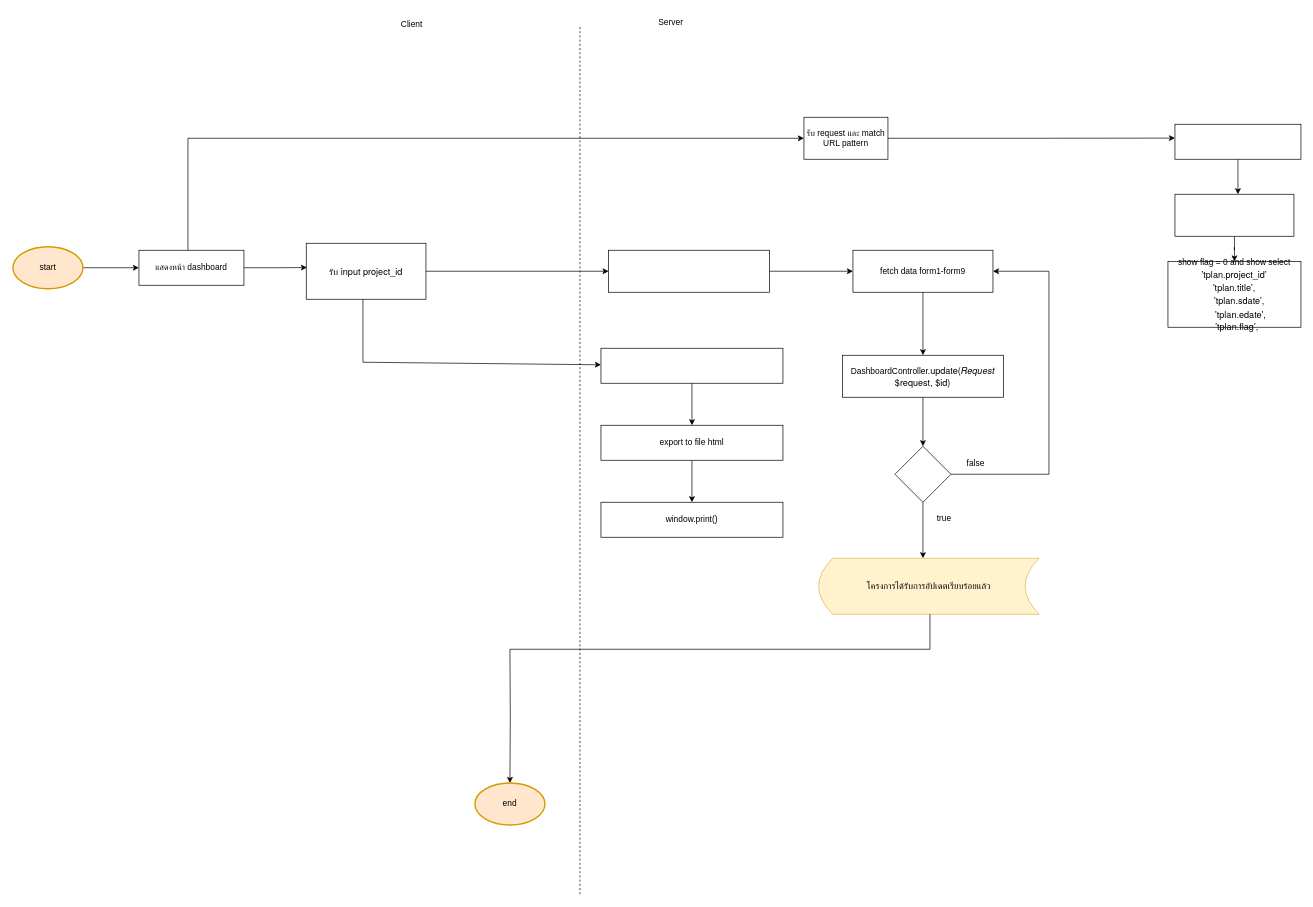
The diagram is 1313 pixels wide and 907 high, and some of its shapes have lost their labels. Each missing label, with the centre of its shape:
DashboardController.edit($id): the point at 689,271
DashboardController.export(): the point at 691,365
DashboardController.showForm(): the point at 1237,141
fetch data table tplan: the point at 1234,215
validate: the point at 922,474
